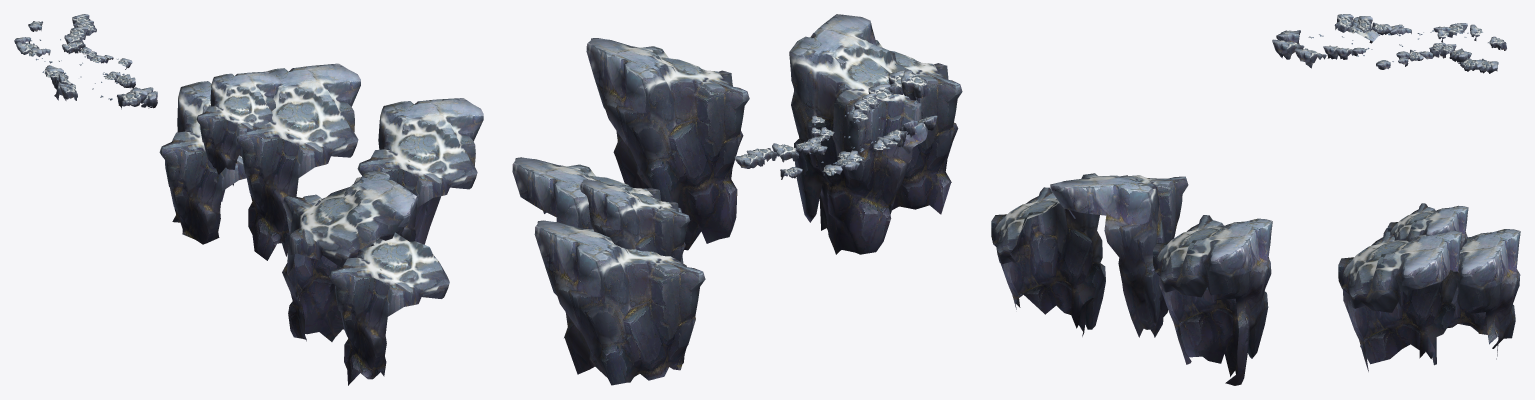
The model's file is s_battle_06_stone.FBX.
3 views of the same model, side by side, from view 1: azimuth 30°, elevation 25°; view 2: azimuth 150°, elevation 25°; view 3: azimuth 270°, elevation 25° (orthographic). The views are drawn at different scales.
Visible parts, largest first — view 1: stone; view 2: stone; view 3: stone.
Part boxes in pixels (left/top/right/bottom): stone: left=14, top=14, right=483, bottom=385; stone: left=512, top=14, right=962, bottom=385; stone: left=991, top=14, right=1520, bottom=385.
Bounding box in the file's own units: 279 × 180 × 349.
